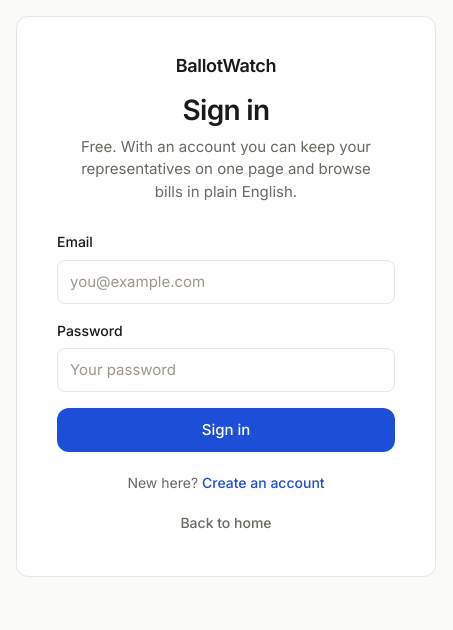
Test: Auth: email and password › shows a generic error when sign-in throws
The image size is (453, 630).
Type "a@b.co" into the field labelled "Email" at (226, 282), box [57,260,395,304]
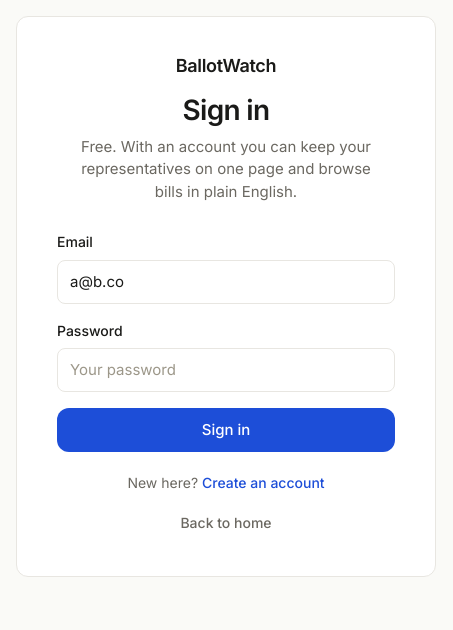
Type "secret1" into the password field labelled "Password" at (226, 370), box [57,348,395,392]
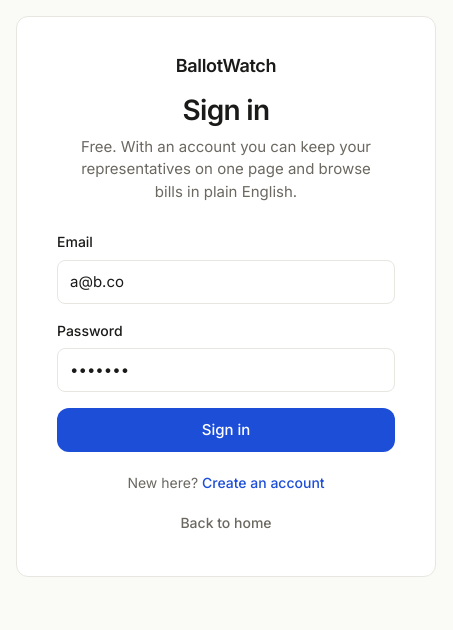
Submit the form, box [57,231,395,452]
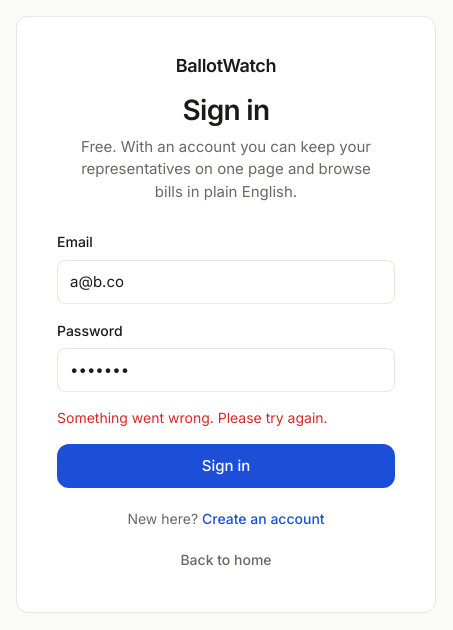
Check: the message reads "Something went wrong. Please try again.", box [57,409,328,426]
